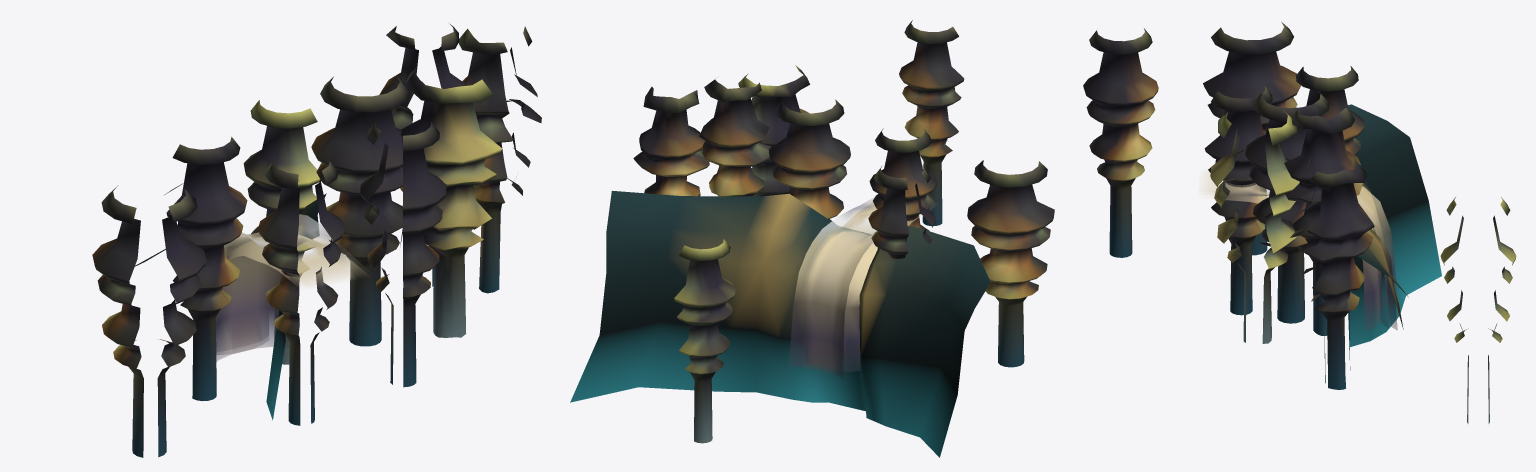
Rendered from 02RiverReverse.gltf.
3 views of the same model, side by side, from view 1: azimuth 30°, elevation 25°; view 2: azimuth 150°, elevation 25°; view 3: azimuth 270°, elevation 25° (orthographic). The views are drawn at different scales.
Parts seen in each view (by area): view 1: stg022_o03_Mesh_0009, stg022_falls_w_03_Mesh_0000, stg022_falls_w_03_Mesh_0002, stg022_falls_w_03_Mesh_0001, stg022_o03_Mesh_0016; view 2: stg022_o03_Mesh_0016, stg022_o03_Mesh_0009, stg022_falls_w_03_Mesh_0001, stg022_falls_w_03_Mesh_0000, stg022_falls_w_03_Mesh_0002; view 3: stg022_o03_Mesh_0009, stg022_o03_Mesh_0016, stg022_falls_w_03_Mesh_0001, stg022_falls_w_03_Mesh_0000, stg022_falls_w_03_Mesh_0002.
Boxes of the visible parts, left/top/right/bottom form: stg022_o03_Mesh_0009: left=92, top=23, right=541, bottom=457; stg022_falls_w_03_Mesh_0000: left=216, top=235, right=363, bottom=362; stg022_falls_w_03_Mesh_0002: left=217, top=228, right=348, bottom=354; stg022_falls_w_03_Mesh_0001: left=224, top=214, right=359, bottom=278; stg022_o03_Mesh_0016: left=135, top=193, right=402, bottom=420; stg022_o03_Mesh_0016: left=570, top=190, right=990, bottom=457; stg022_o03_Mesh_0009: left=633, top=20, right=1054, bottom=443; stg022_falls_w_03_Mesh_0001: left=789, top=197, right=909, bottom=379; stg022_falls_w_03_Mesh_0000: left=804, top=202, right=931, bottom=371; stg022_falls_w_03_Mesh_0002: left=796, top=206, right=876, bottom=376; stg022_o03_Mesh_0009: left=1083, top=21, right=1516, bottom=423; stg022_o03_Mesh_0016: left=1348, top=104, right=1441, bottom=370; stg022_falls_w_03_Mesh_0001: left=1220, top=181, right=1397, bottom=330; stg022_falls_w_03_Mesh_0000: left=1209, top=181, right=1379, bottom=331; stg022_falls_w_03_Mesh_0002: left=1212, top=181, right=1388, bottom=327.
Bounding box in the file's own units: 163 × 132 × 149.
